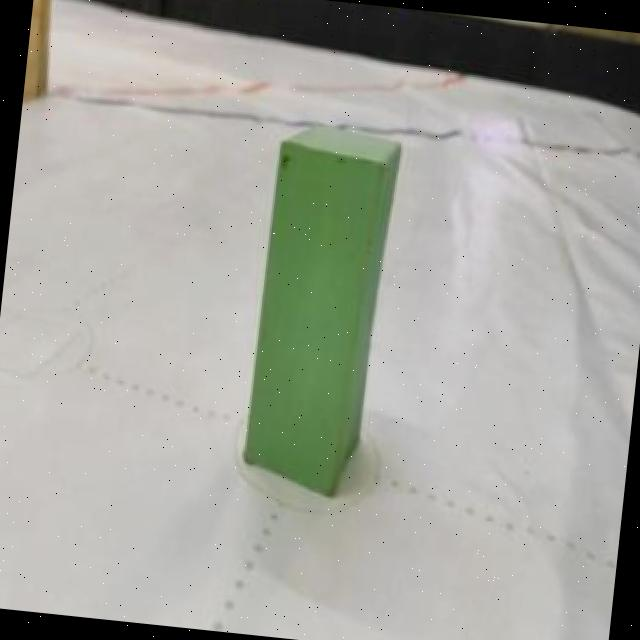greenbox: (236, 112, 402, 502)
